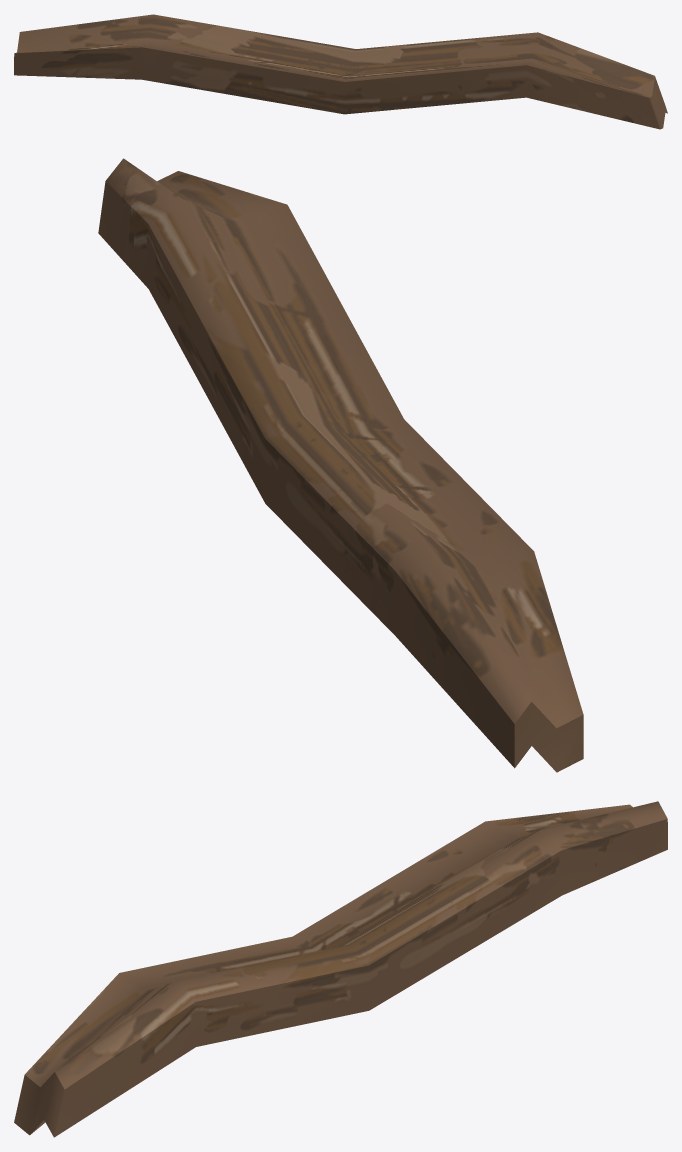
File: Stick.fbx
3 views of the same model, one above another, from view 1: azimuth 30°, elevation 25°; view 2: azimuth 150°, elevation 25°; view 3: azimuth 270°, elevation 25° (orthographic). The views are drawn at different scales.
Visible parts, largest first — view 1: Stick; view 2: Stick; view 3: Stick.
Boxes of the visible parts, x1,y1,x2,y2 form: Stick: (14, 14, 667, 129); Stick: (98, 158, 583, 772); Stick: (14, 801, 667, 1137).
Size of the model in its own units: 0.7312 by 0.125 by 0.6596.
